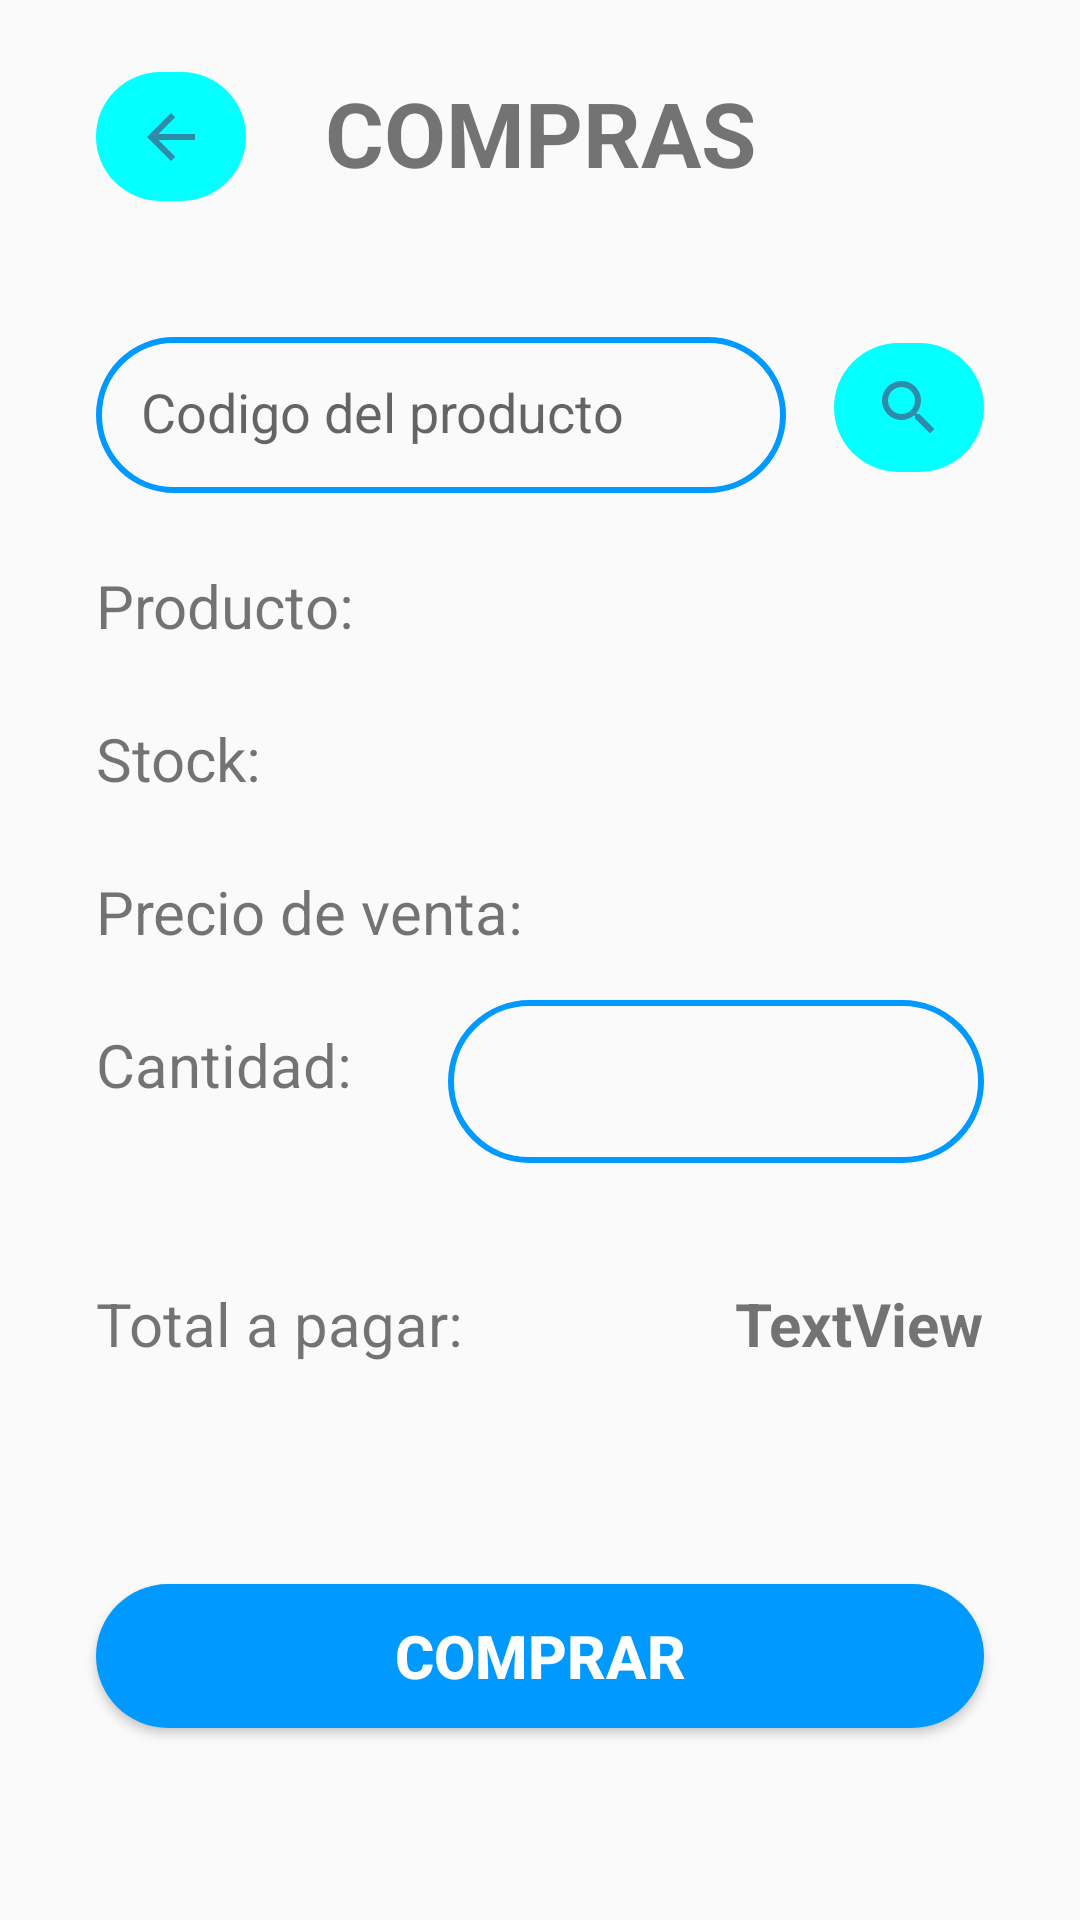

Screen size 1080*1920. Icon name, then its center in pixels as (x,y):
buscar: (909,407)
volver: (171,136)
